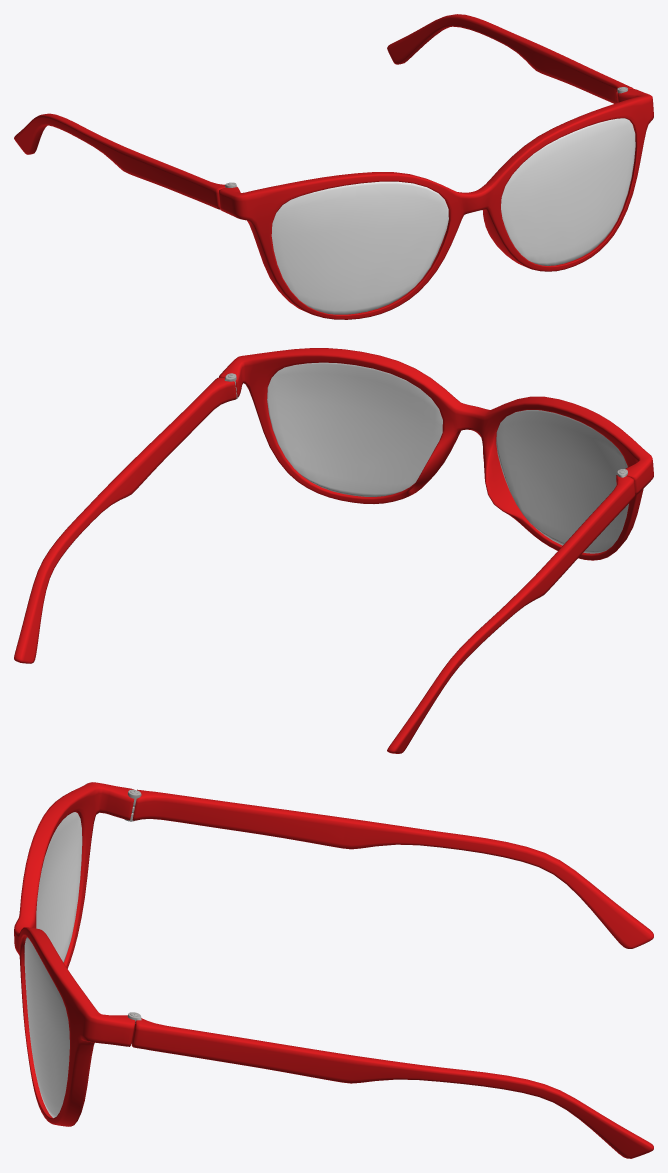
File: Red Full Rim Cat Eye.glb
3 renders of one model, top to bottom at view 1: azimuth 30°, elevation 25°; view 2: azimuth 150°, elevation 25°; view 3: azimuth 270°, elevation 25°, orthographic. The views are drawn at different scales.
Parts seen in each view (by area): view 1: lens, frame; view 2: lens, frame; view 3: frame, lens.
Part boxes in pixels (left/top/right/bottom): lens: left=272, top=119, right=634, bottom=314; frame: left=14, top=14, right=653, bottom=319; lens: left=268, top=364, right=628, bottom=553; frame: left=14, top=348, right=653, bottom=753; frame: left=14, top=782, right=653, bottom=1158; lens: left=24, top=812, right=81, bottom=1115.
Size of the model in its own units: 0.1256 by 0.0413 by 0.141.
Materials: 3 (1 with a texture image).
